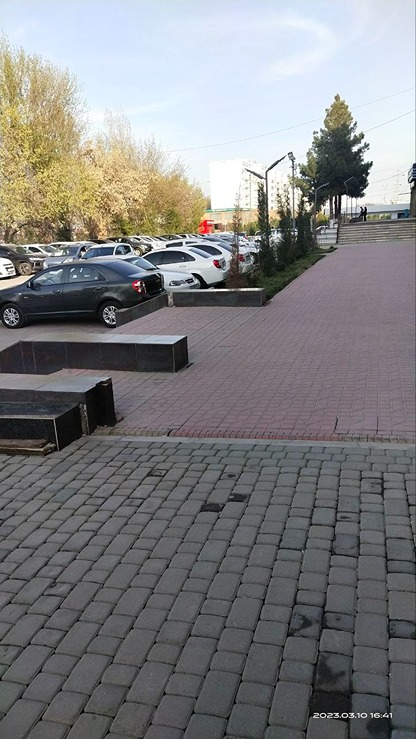car: (0, 251, 173, 332), (145, 247, 229, 275), (43, 243, 80, 268), (167, 266, 200, 290), (228, 245, 253, 273), (0, 258, 18, 275)
tree: (291, 84, 381, 215)
